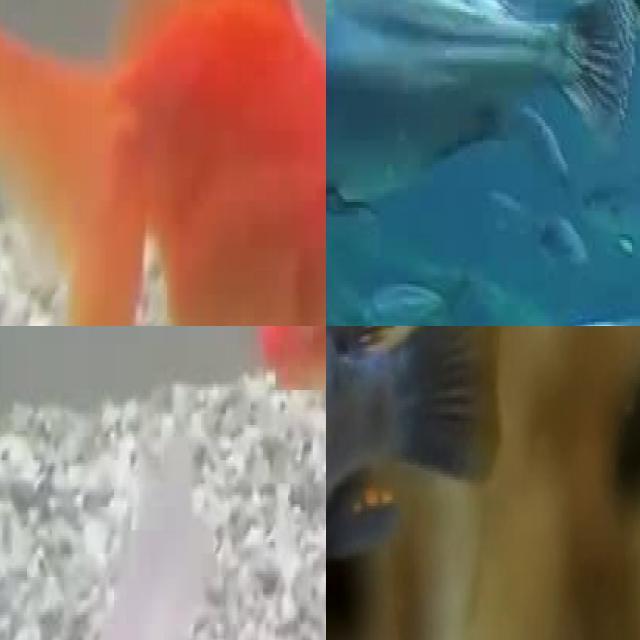fish: (0, 0, 326, 326), (326, 326, 530, 640), (26, 387, 224, 640)
